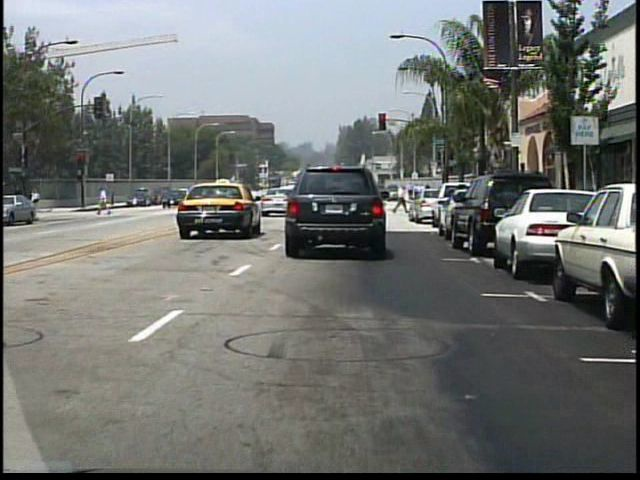person: (392, 182, 410, 217), (97, 187, 113, 217), (29, 188, 43, 212)
